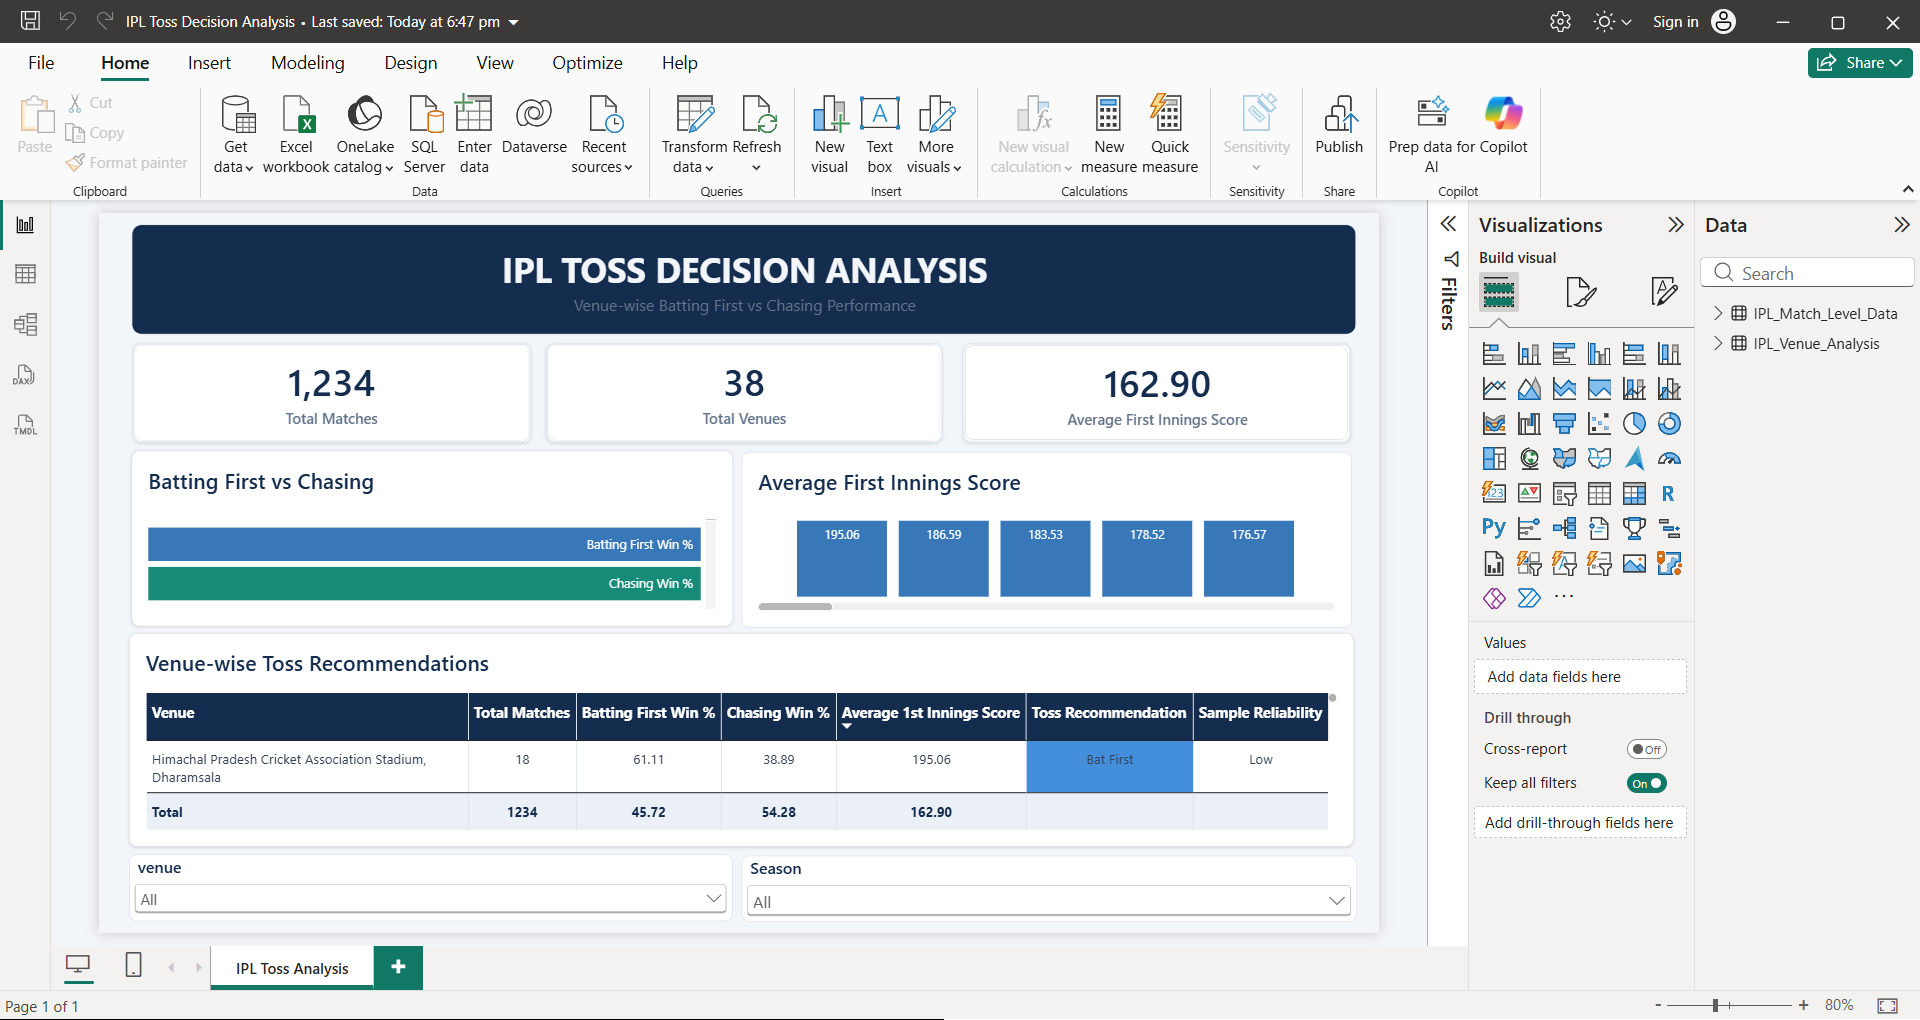

What the dashboard file says about the page in this screenshot:
{"tool":"powerbi","page":{"name":"IPL Toss Analysis","canvas":[1280,720],"ordinal":0},"visuals":[{"type":"textbox","title":"IPL TOSS DECISION ANALYSIS","box":[32.5,11.2,1225,110],"z":0},{"type":"cardVisual","fields":{"Data":["Sum(IPL_Venue_Analysis.total_matches)"]},"box":[33.1,129.4,398,100],"z":1000},{"type":"clusteredBarChart","title":"Batting First vs Chasing ","fields":{"Category":["IPL_Venue_Analysis.venue"],"Y":["CountNonNull(IPL_Venue_Analysis.batting_first_win_pct)","CountNonNull(IPL_Venue_Analysis.chasing_win_pct)"]},"box":[32.9,237.1,601.4,175.7],"z":2000},{"type":"cardVisual","fields":{"Data":["IPL_Match_Level_Data.Total Venues"]},"box":[447.5,129.4,396,100],"z":3000},{"type":"cardVisual","fields":{"Data":["Avg(IPL_Venue_Analysis.avg_first_innings_score)"]},"box":[863.8,129.4,388,100],"z":4000},{"type":"clusteredColumnChart","title":"Average First Innings Score","fields":{"Category":["IPL_Venue_Analysis.venue"],"Y":["Sum(IPL_Venue_Analysis.avg_first_innings_score)"]},"box":[642.5,238.8,610,175.7],"z":5000},{"type":"tableEx","title":"Venue-wise Toss Recommendations","fields":{"Values":["IPL_Venue_Analysis.venue","IPL_Venue_Analysis.total_matches","IPL_Venue_Analysis.batting_first_win_pct","IPL_Venue_Analysis.chasing_win_pct","IPL_Venue_Analysis.avg_first_innings_score","IPL_Venue_Analysis.toss_recommendation","IPL_Venue_Analysis.sample_reliability"]},"box":[30,420,1225,213.8],"z":6000},{"type":"slicer","title":"Venue","fields":{"Values":["IPL_Venue_Analysis.venue"]},"box":[30,641.2,603.8,67.5],"z":7000},{"type":"slicer","fields":{"Values":["IPL_Match_Level_Data.season"]},"box":[642.5,642.5,615,66.2],"z":8000}]}

Visuals, with their boxes on the page's 1280x720 design canvas (x1, y1, x2, y2). These are canvas units, not pixel positions in the 1920x1020 screenshot, which may show the page scaled, cropped or inside an application window:
"IPL TOSS DECISION ANALYSIS" textbox: bbox=[32, 11, 1258, 121]
cardVisual - Sum(IPL_Venue_Analysis.total_matches): bbox=[33, 129, 431, 229]
"Batting First vs Chasing " clusteredBarChart: bbox=[33, 237, 634, 413]
cardVisual - IPL_Match_Level_Data.Total Venues: bbox=[448, 129, 844, 229]
cardVisual - Avg(IPL_Venue_Analysis.avg_first_innings_score): bbox=[864, 129, 1252, 229]
"Average First Innings Score" clusteredColumnChart: bbox=[642, 239, 1252, 414]
"Venue-wise Toss Recommendations" tableEx: bbox=[30, 420, 1255, 634]
"Venue" slicer: bbox=[30, 641, 634, 709]
slicer - IPL_Match_Level_Data.season: bbox=[642, 642, 1258, 709]
